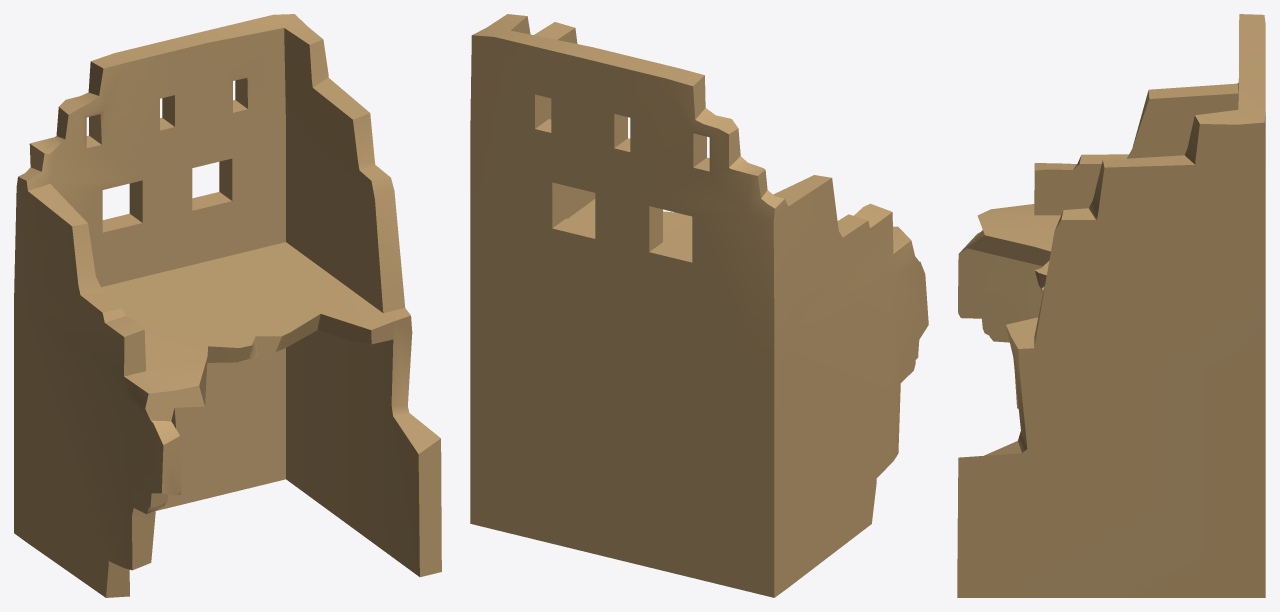
File: Ruins_2SBuildingSegment_01.fbx
3 views of the same model, side by side, from view 1: azimuth 30°, elevation 25°; view 2: azimuth 150°, elevation 25°; view 3: azimuth 270°, elevation 25° (orthographic). The views are drawn at different scales.
Parts seen in each view (by area): view 1: Segment_01; view 2: Segment_01; view 3: Segment_01.
Part boxes in pixels (x1,y1,x2,y2): Segment_01: (14,14,441,597); Segment_01: (470,14,928,597); Segment_01: (957,14,1265,597).
Bounding box in the file's own units: 447 × 692 × 404.
